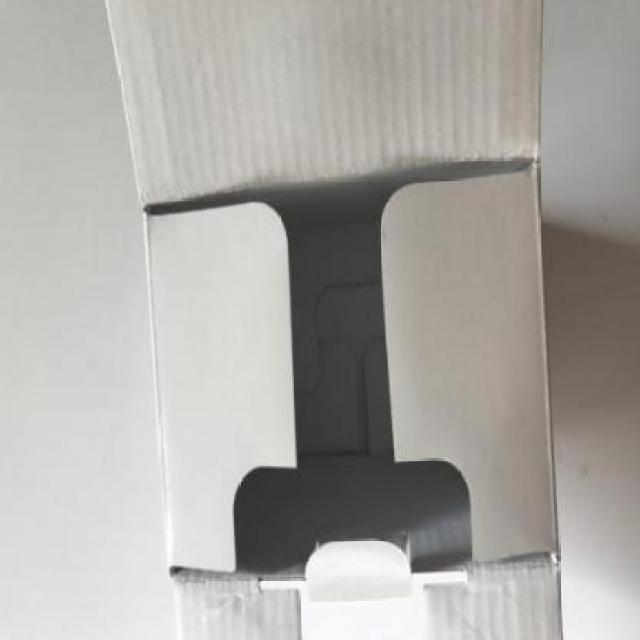box: (102, 2, 562, 639)
